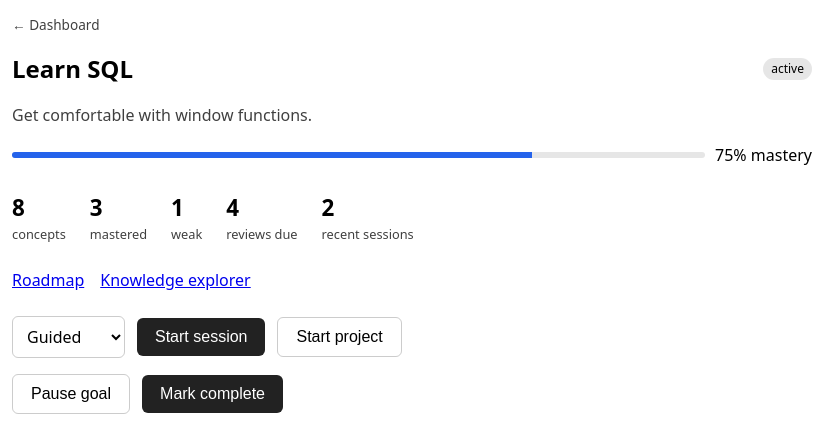
Test: GoalView › shows pause/complete actions for an active goal and pausing updates the status tag
Expected: the heading "Learn SQL" is shown, [12, 51, 133, 87]
Click the button "Pause goal": x=71, y=394 [12, 374, 130, 414]
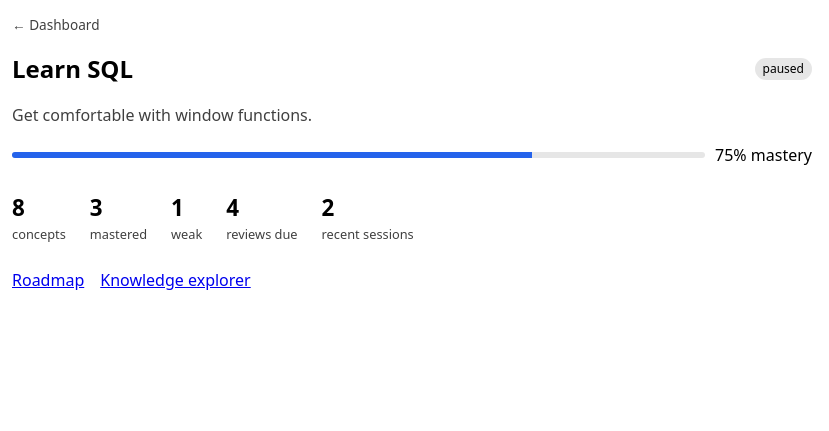
Result: the text "paused" is shown at [755, 58, 812, 80]
